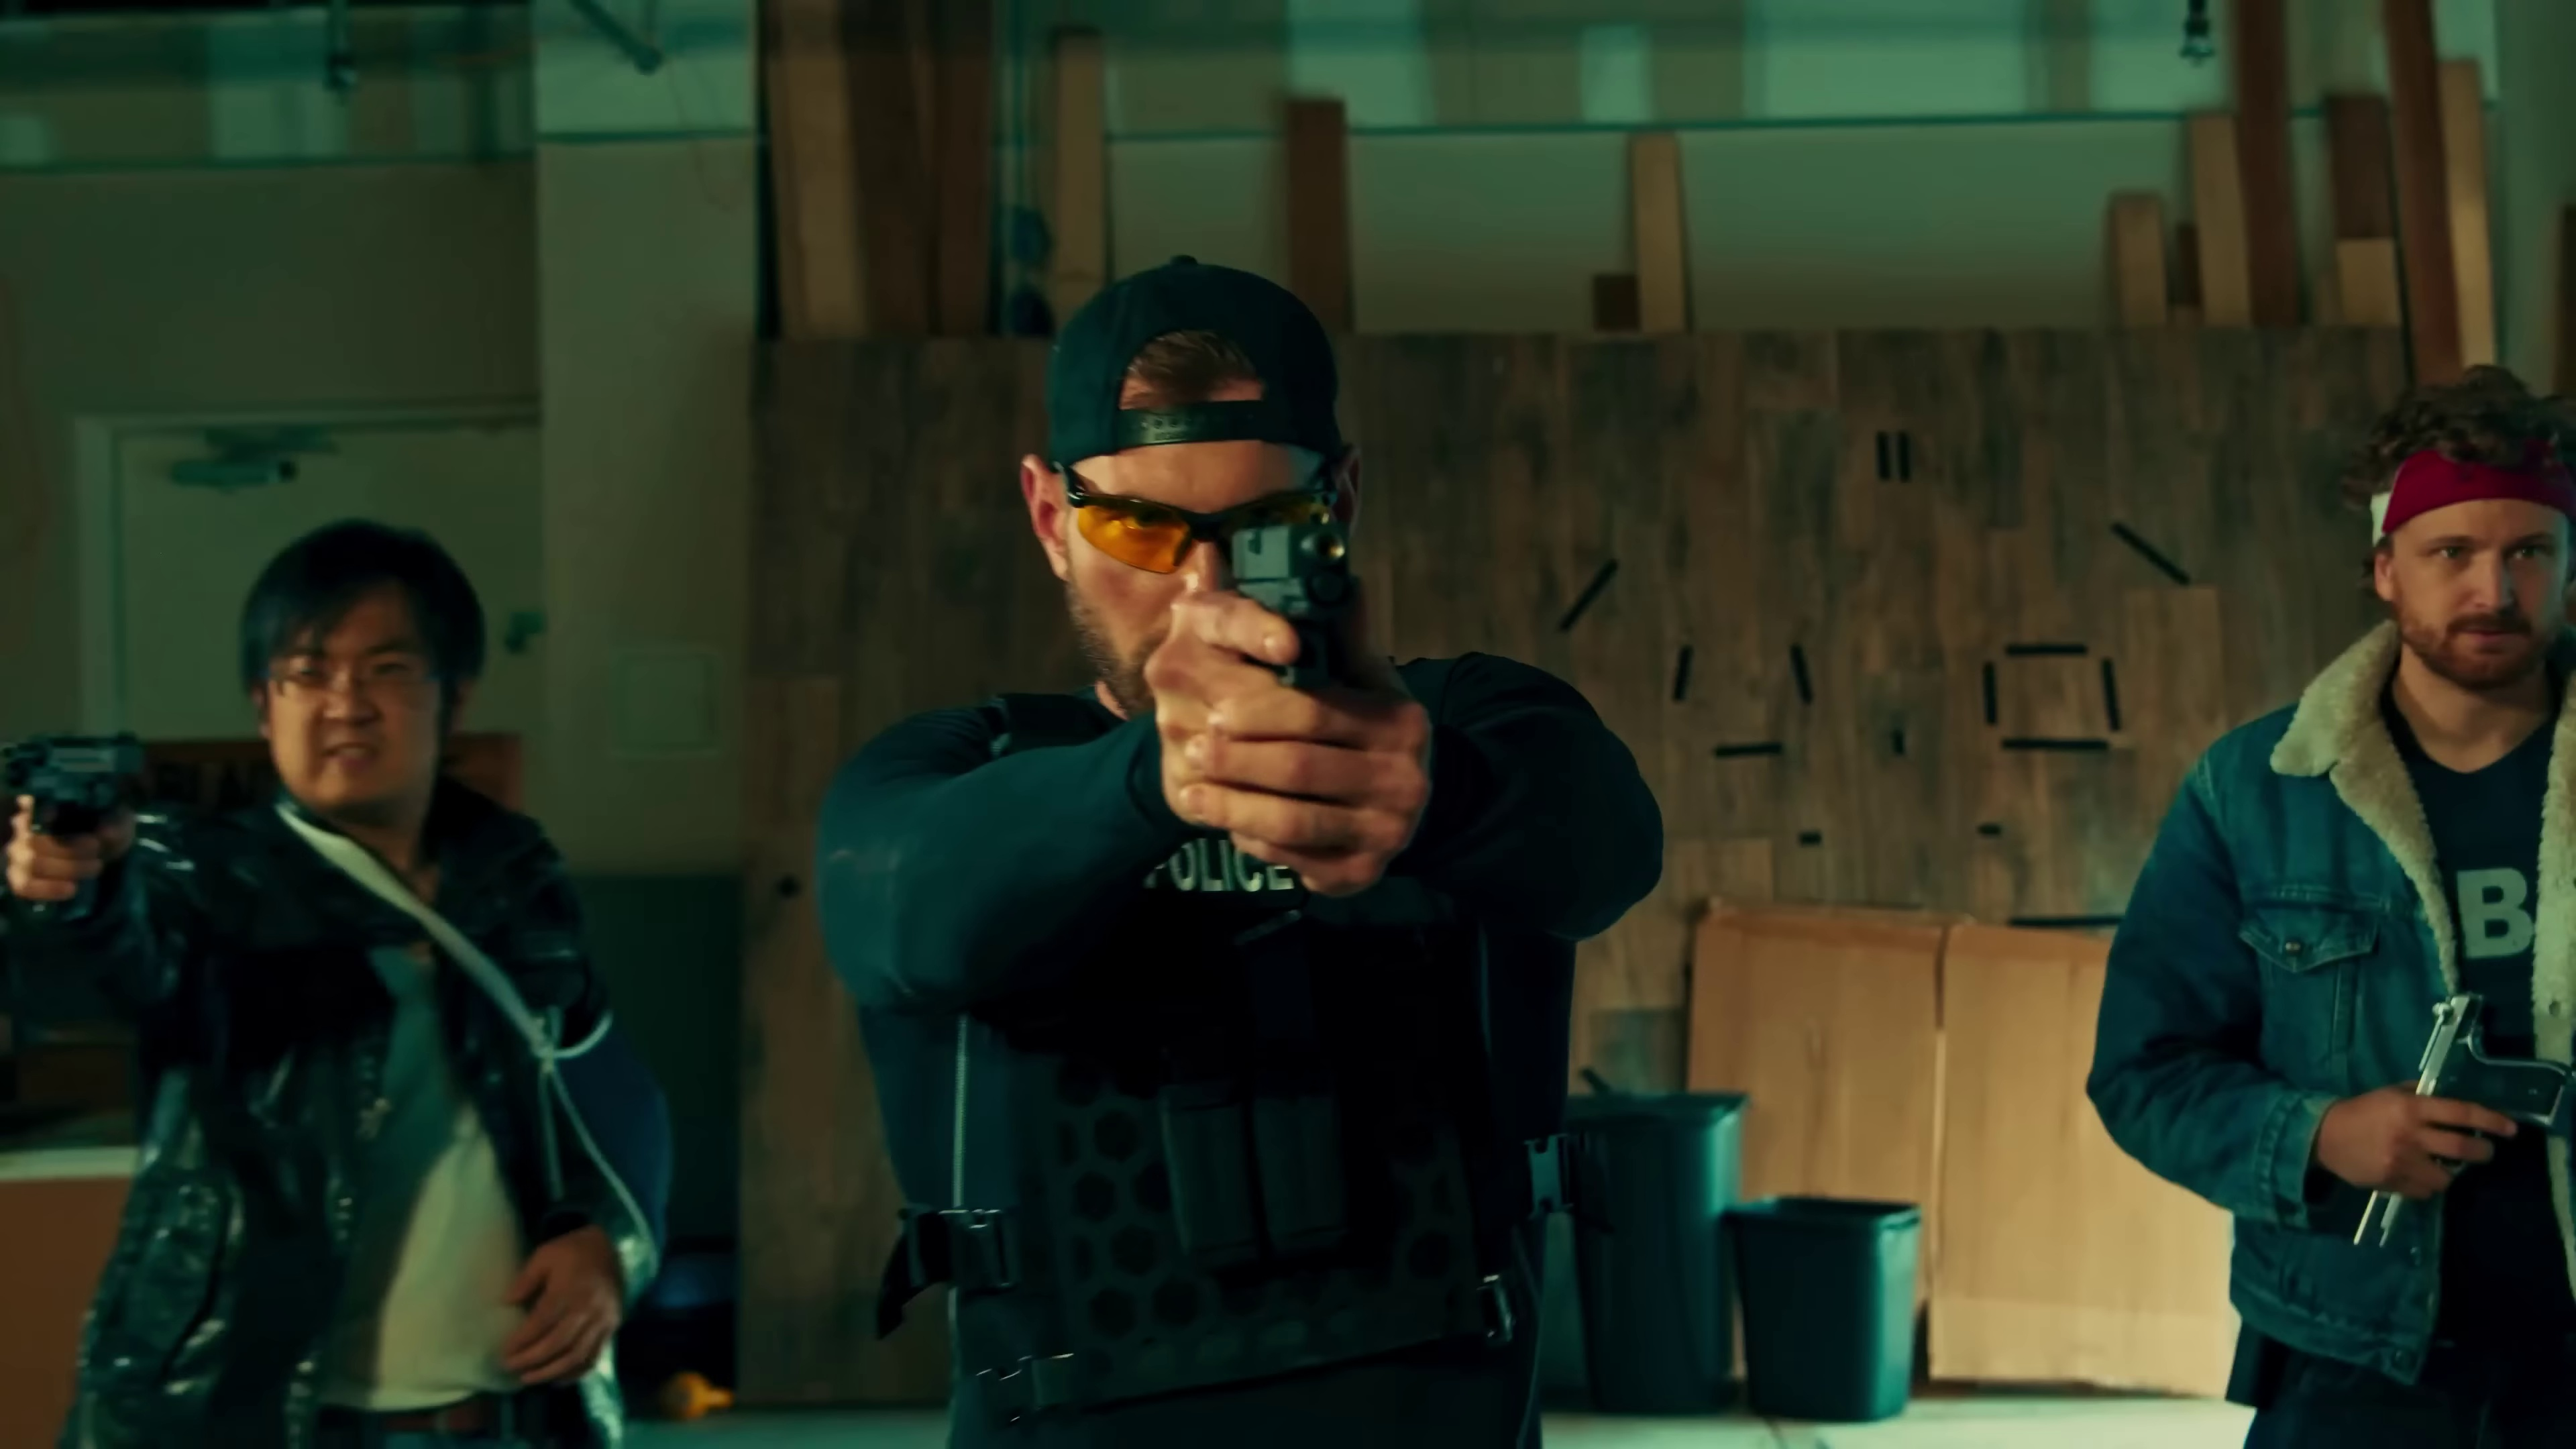gun: (2342, 991, 2576, 1251), (1207, 495, 1369, 663), (0, 736, 149, 846)
p_w_gun: (812, 246, 1665, 1449), (0, 511, 678, 1449), (2068, 350, 2576, 1449)
